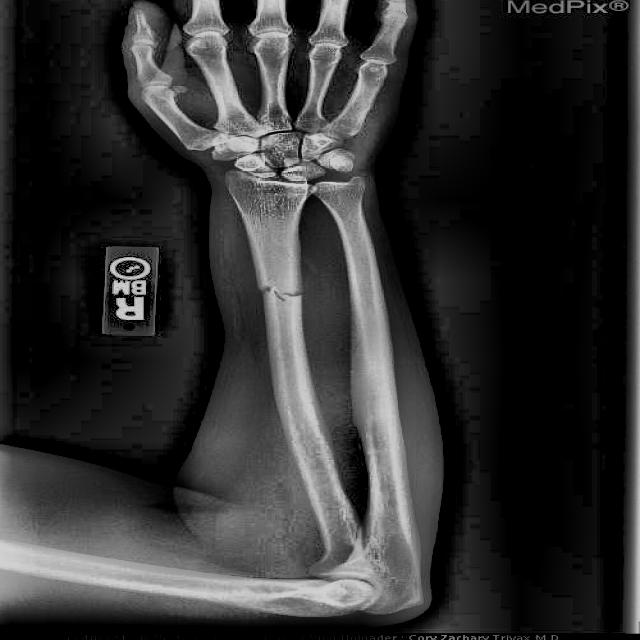line: (252, 287, 311, 300)
